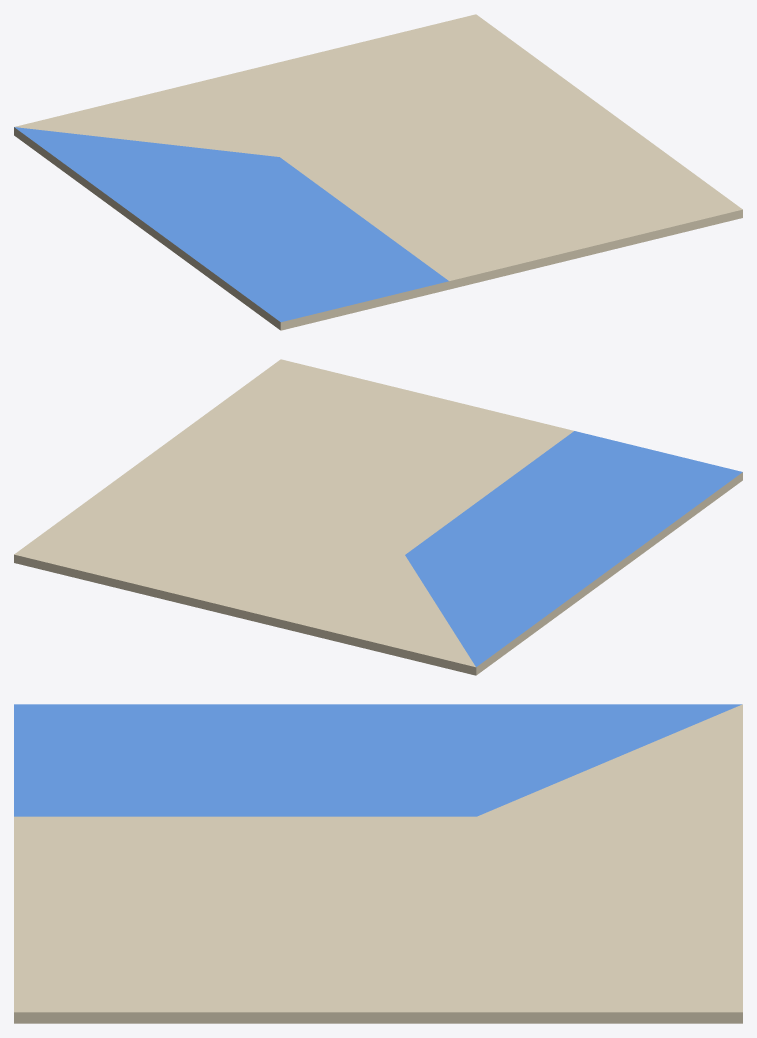
File: meridian_construction_center_foundation.glb
3 views of the same model, one above another, from view 1: azimuth 30°, elevation 25°; view 2: azimuth 150°, elevation 25°; view 3: azimuth 270°, elevation 25° (orthographic). The views are drawn at different scales.
Parts seen in each view (by area): view 1: hull; view 2: hull; view 3: hull.
Boxes of the visible parts, left/top/right/bottom form: hull: left=14, top=14, right=742, bottom=330; hull: left=14, top=359, right=742, bottom=675; hull: left=14, top=704, right=742, bottom=1023.
Bounding box in the file's own units: 14.4 × 0.25 × 14.4.
